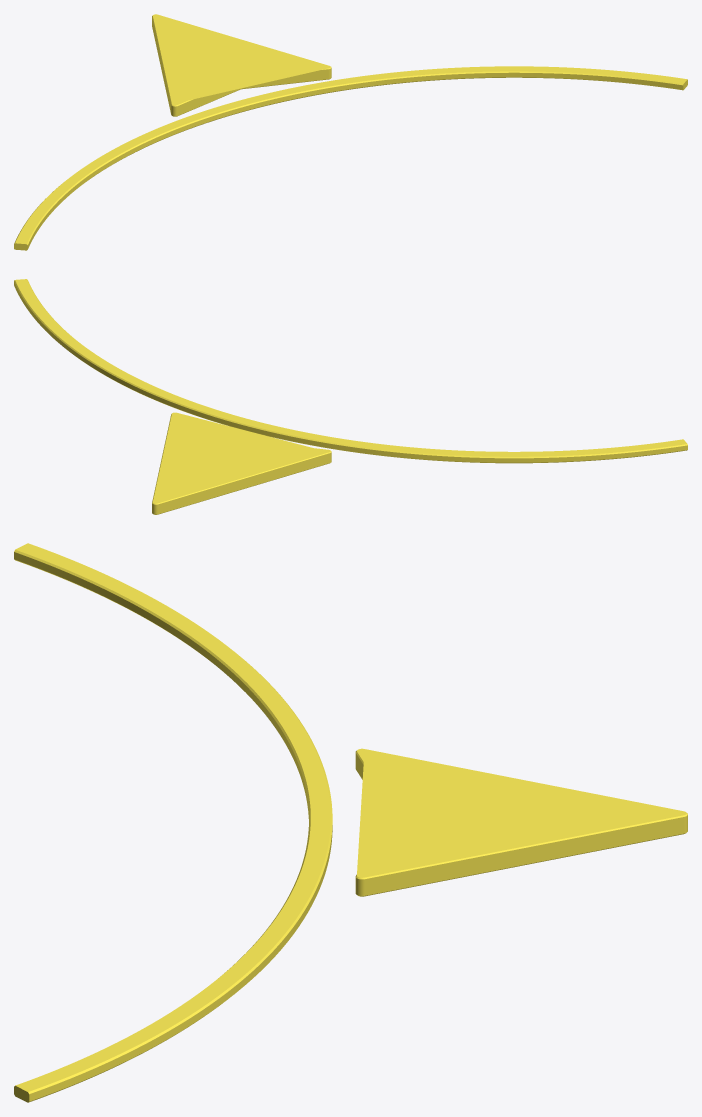
Rendered from Wayfinding_pointer_v2.fbx.
The picture shows the model from 3 angles, top to bottom: view 1: azimuth 30°, elevation 25°; view 2: azimuth 150°, elevation 25°; view 3: azimuth 270°, elevation 25°; orthographic projection. The views are drawn at different scales.
Visible parts, largest first — view 1: Fill, Tube; view 2: Fill, Tube; view 3: Fill, Tube.
Part boxes in pixels (x1=…): Fill: x1=152, y1=14, x2=331, y2=116; Tube: x1=14, y1=66, x2=687, y2=250; Fill: x1=152, y1=412, x2=331, y2=514; Tube: x1=14, y1=279, x2=687, y2=463; Fill: x1=355, y1=748, x2=687, y2=896; Tube: x1=14, y1=543, x2=332, y2=1102.
Bounding box in the file's own units: 221 × 3.53 × 114.
